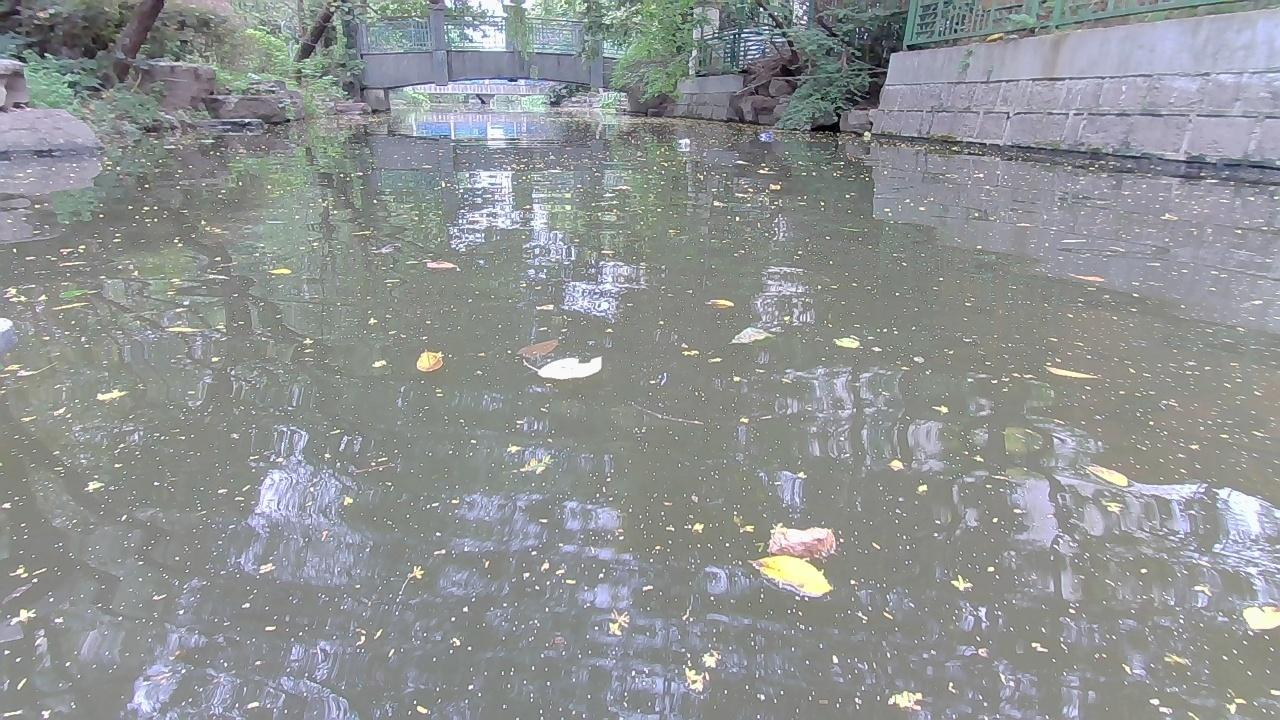bottle: (676, 138, 694, 149), (754, 130, 771, 139), (861, 130, 871, 142)
